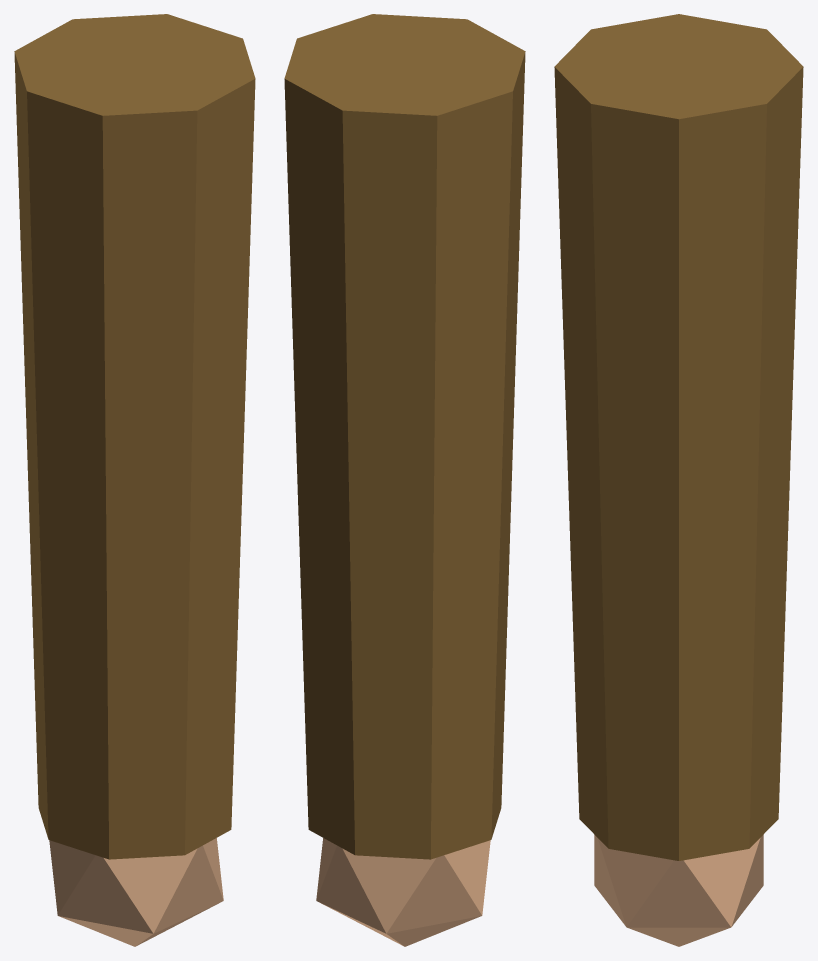
Rendered from insan_k2_kol.glb.
3 views of the same model, side by side, from view 1: azimuth 30°, elevation 25°; view 2: azimuth 150°, elevation 25°; view 3: azimuth 270°, elevation 25° (orthographic).
Visible parts, largest first — view 1: Cone; view 2: Cone; view 3: Cone.
Part boxes in pixels (box(x1,y1,x2,y2)): Cone: box(14, 14, 255, 946); Cone: box(284, 14, 525, 946); Cone: box(554, 14, 803, 946).
Size of the model in its own units: 0.03 by 0.117 by 0.03.
